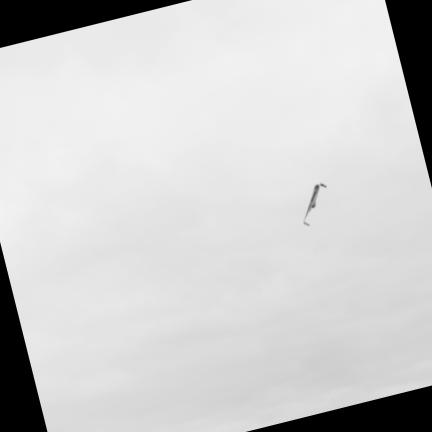Shahed: (303, 182, 326, 224)
